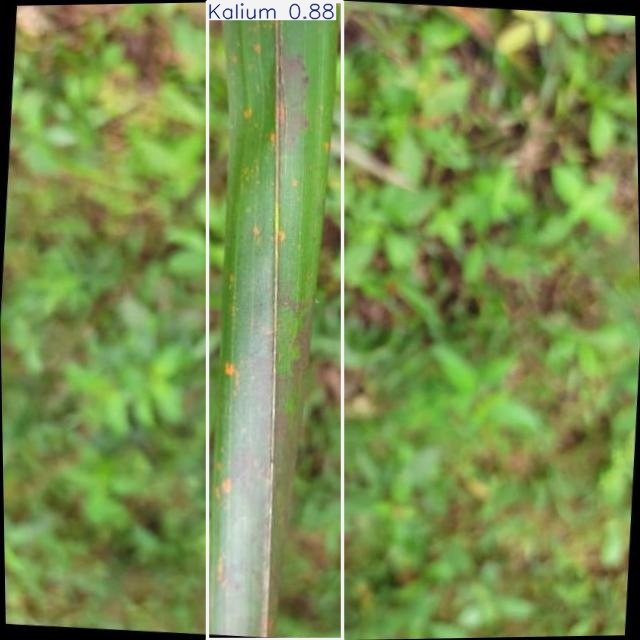Kalium: (207, 1, 342, 639)
